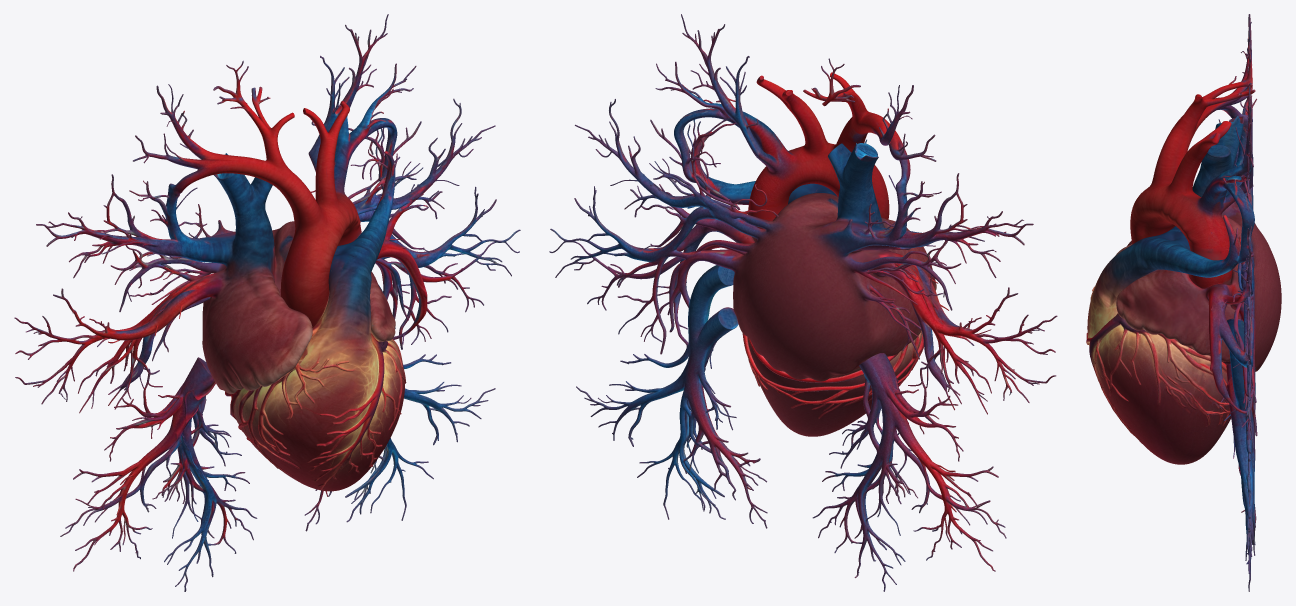
The model's file is heart1.glb.
3 renders of one model, left to right at view 1: azimuth 30°, elevation 25°; view 2: azimuth 150°, elevation 25°; view 3: azimuth 270°, elevation 25°, orthographic. The views are drawn at different scales.
Bounding box in the file's own units: 1.89 × 1.88 × 0.6691.
Materials: 1 (1 with a texture image).
